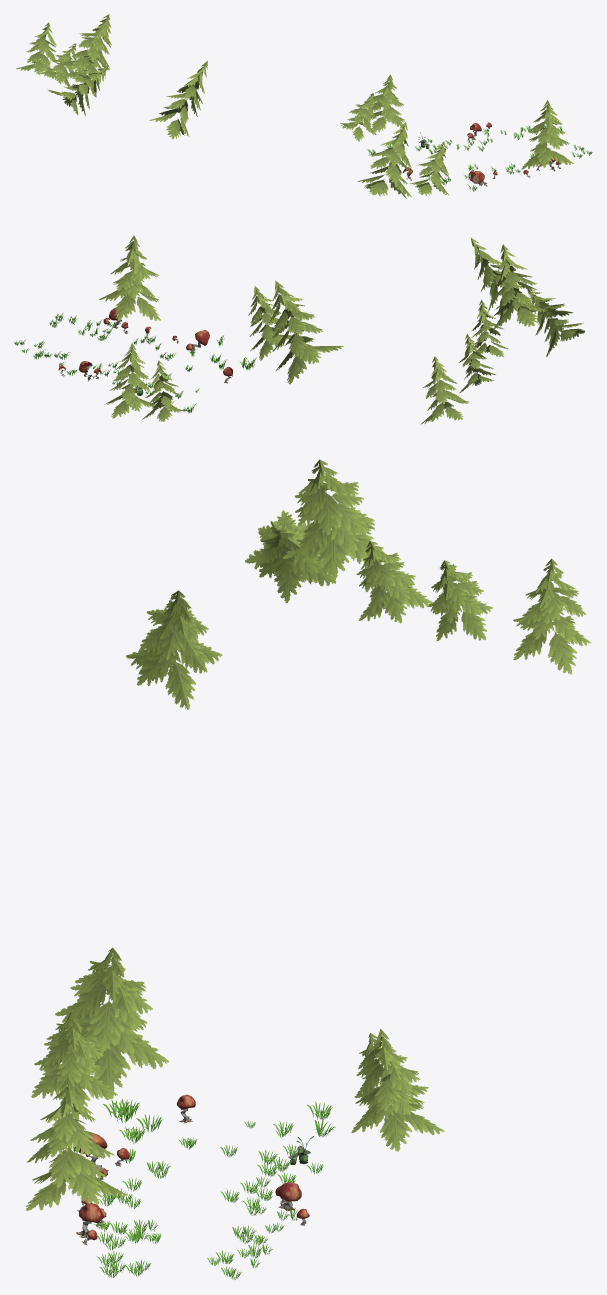
The model's file is boss1_zhibei_1.fbx.
The picture shows the model from 3 angles, top to bottom: view 1: azimuth 30°, elevation 25°; view 2: azimuth 150°, elevation 25°; view 3: azimuth 270°, elevation 25°; orthographic projection. The views are drawn at different scales.
Visible parts, largest first — view 1: boss1_zhibei_1; view 2: boss1_zhibei_1; view 3: boss1_zhibei_1.
Boxes of the visible parts, x1,y1,x2,y2 form: boss1_zhibei_1: [16, 14, 592, 198]; boss1_zhibei_1: [14, 235, 584, 424]; boss1_zhibei_1: [25, 459, 590, 1279].
Bounding box in the file's own units: 5637 × 2263 × 2878.
